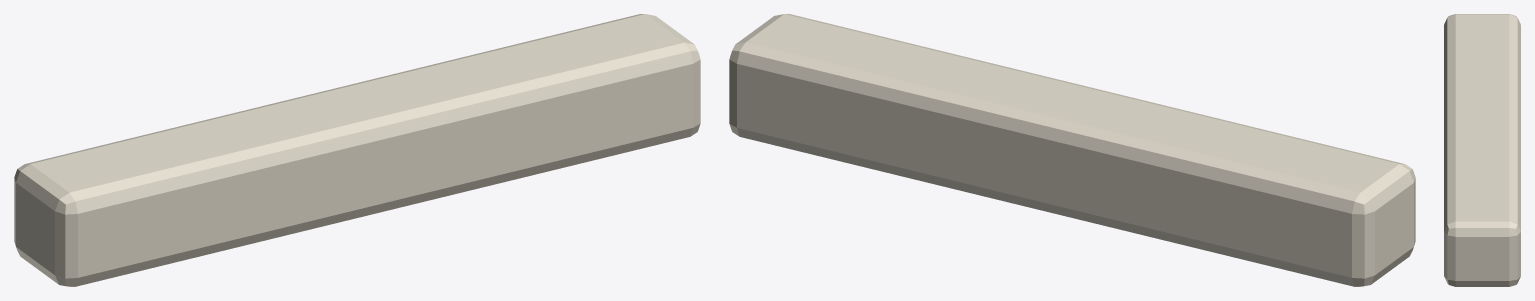
File: Test_CheonRef_BoundaryStone.fbx
The picture shows the model from 3 angles, left to right: view 1: azimuth 30°, elevation 25°; view 2: azimuth 150°, elevation 25°; view 3: azimuth 270°, elevation 25°; orthographic projection. The views are drawn at different scales.
Parts seen in each view (by area): view 1: PathBoundaryStone; view 2: PathBoundaryStone; view 3: PathBoundaryStone.
Part boxes in pixels (x1,y1,x2,y2): PathBoundaryStone: [14, 14, 700, 286]; PathBoundaryStone: [729, 14, 1415, 286]; PathBoundaryStone: [1444, 14, 1520, 286].
Bounding box in the file's own units: 200 × 28 × 30.
